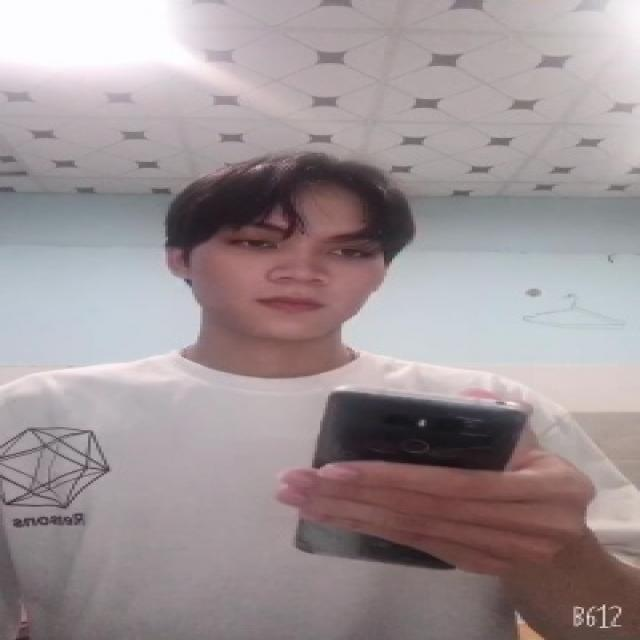Phone: (292, 384, 532, 574)
